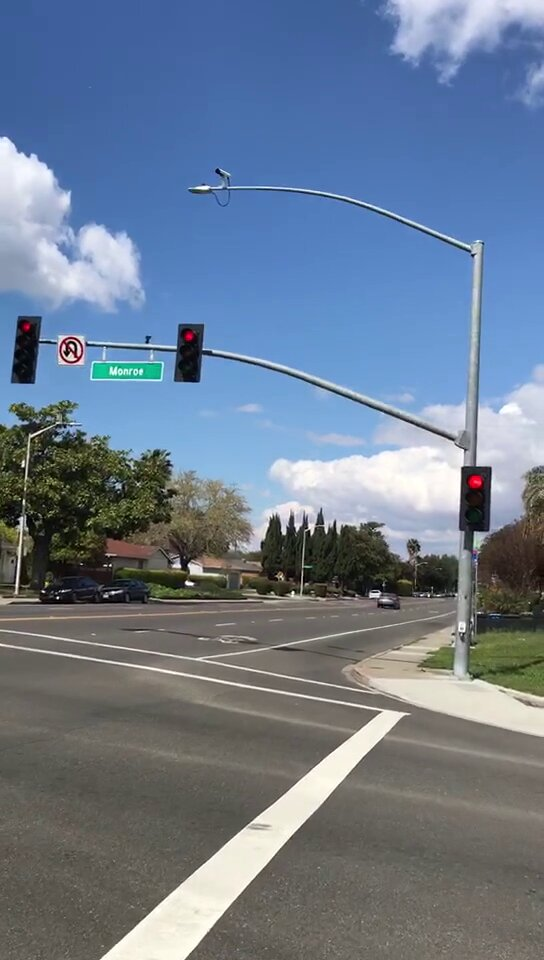red_light: (464, 470, 492, 530), (177, 323, 202, 381), (15, 315, 37, 380)
